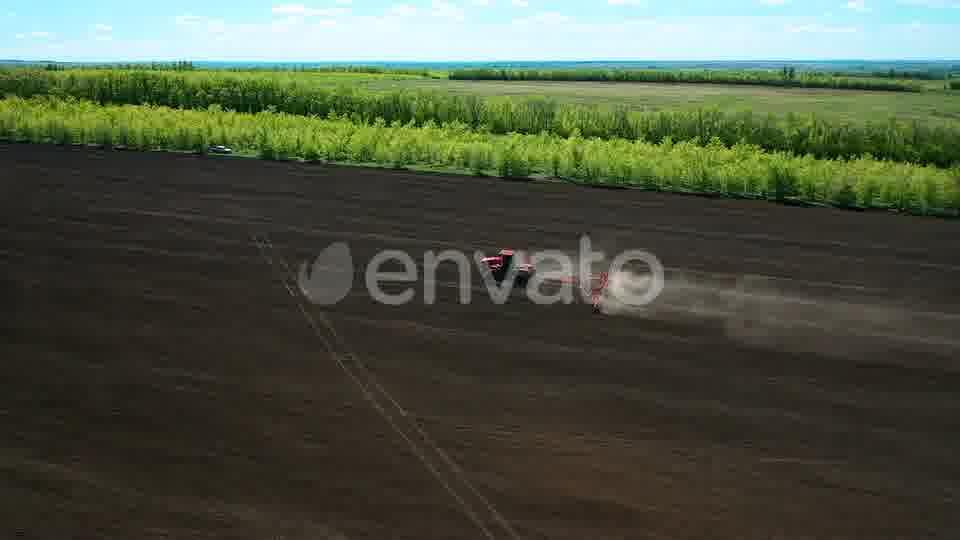tractor: (475, 247, 542, 288)
